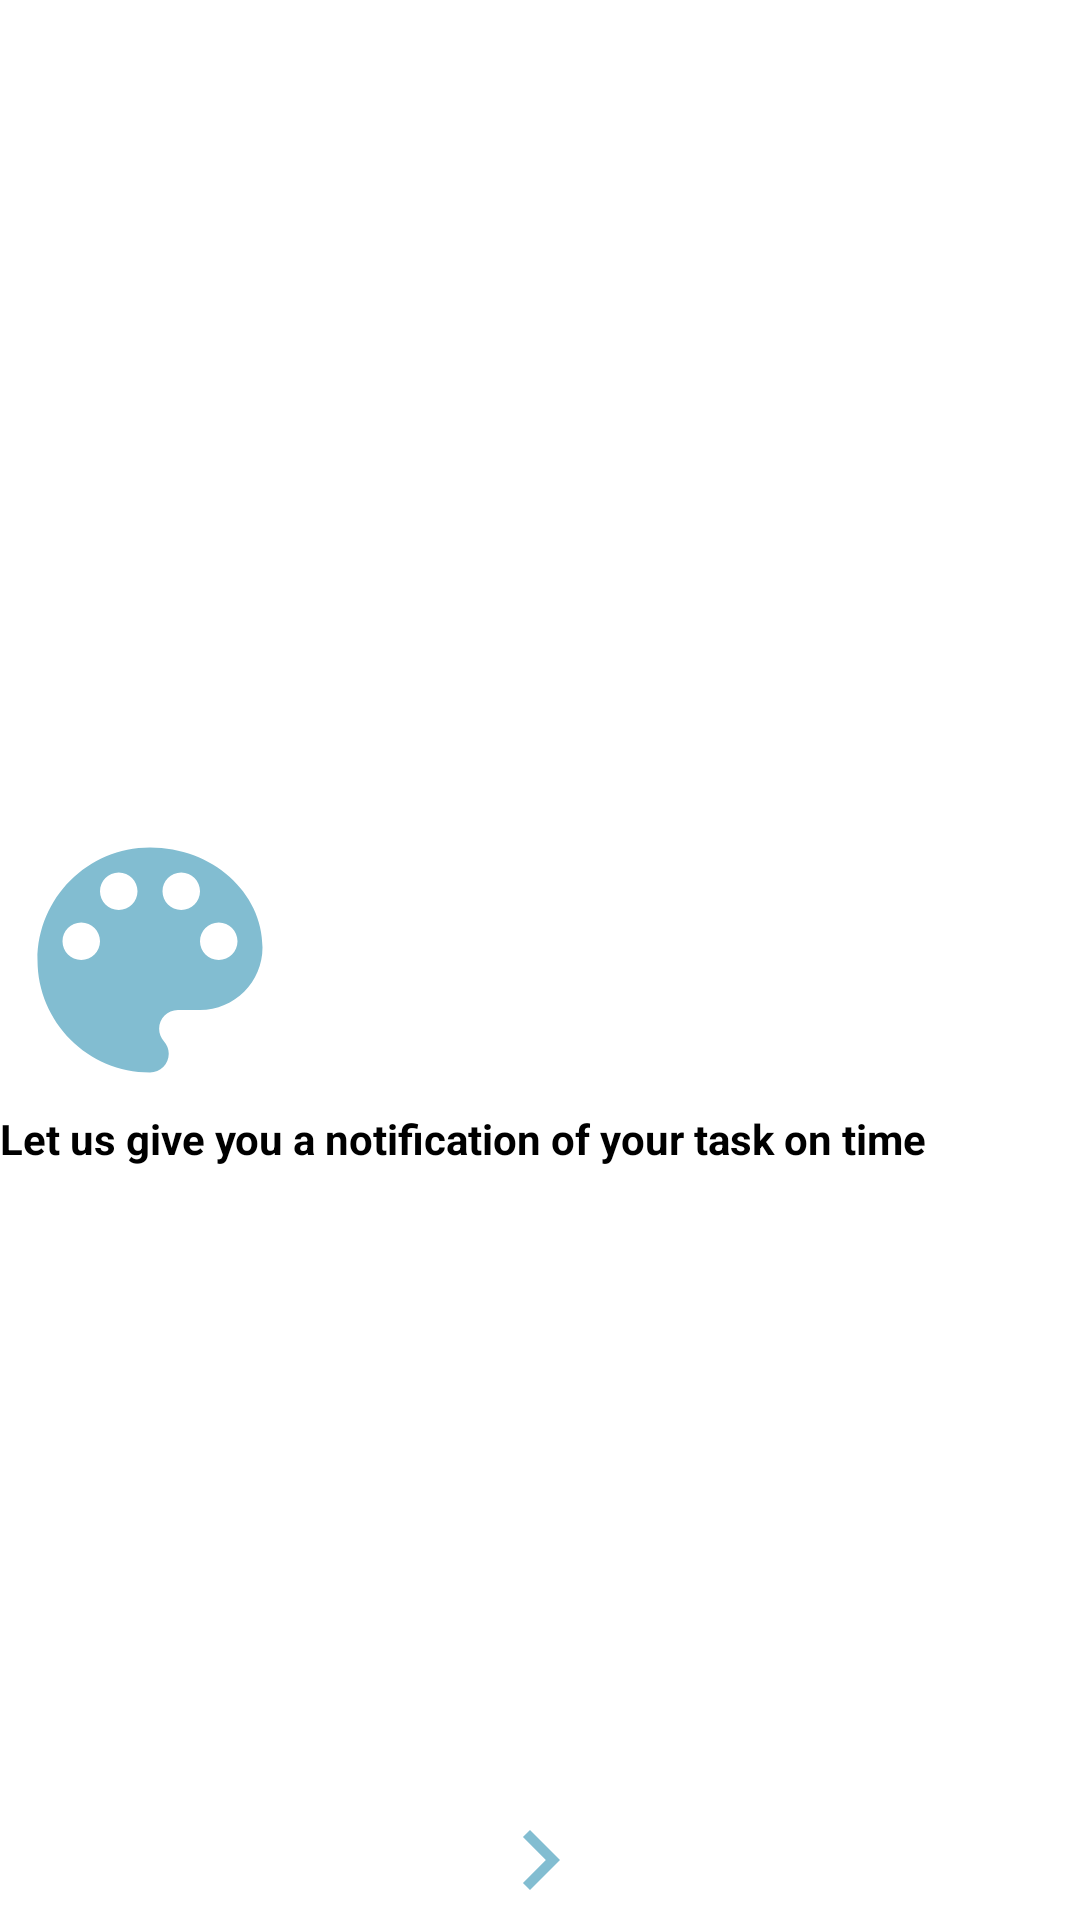

Where to tap for icons on this 1080 × 1920 app screen, as [x,y]:
next: [541,1860]
